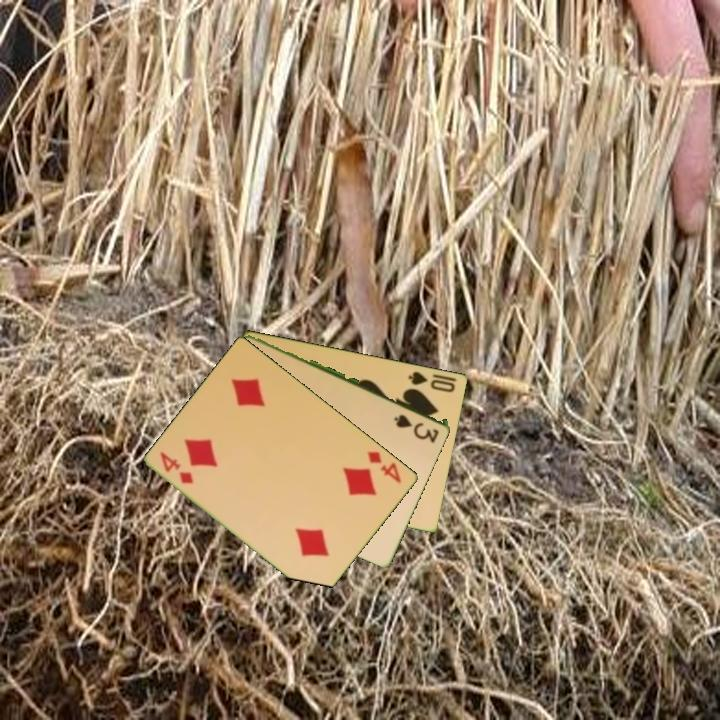10s: (405, 367, 458, 395)
3s: (390, 411, 442, 443)
4d: (364, 447, 405, 486), (157, 448, 197, 487)
